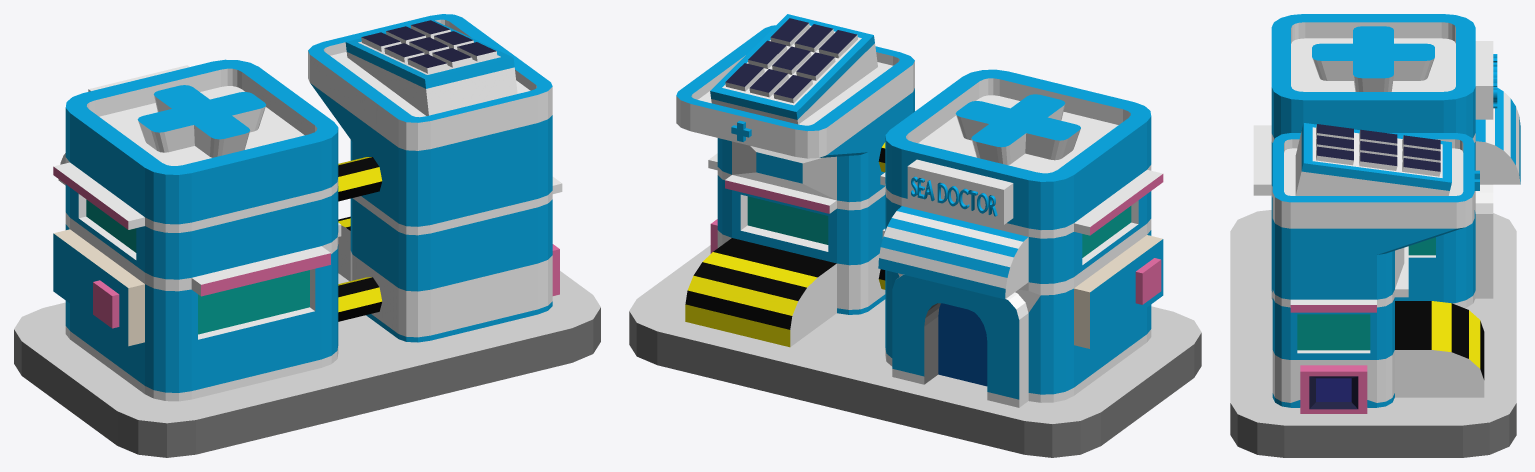
File: SeaDoctor.fbx
3 views of the same model, side by side, from view 1: azimuth 30°, elevation 25°; view 2: azimuth 150°, elevation 25°; view 3: azimuth 270°, elevation 25° (orthographic). The views are drawn at different scales.
Parts seen in each view (by area): view 1: Factory; view 2: Factory; view 3: Factory.
Boxes of the visible parts, x1,y1,x2,y2 form: Factory: (14, 14, 600, 457); Factory: (629, 14, 1201, 457); Factory: (1230, 14, 1520, 457).
Size of the model in its own units: 2874 by 1643 by 1621.
